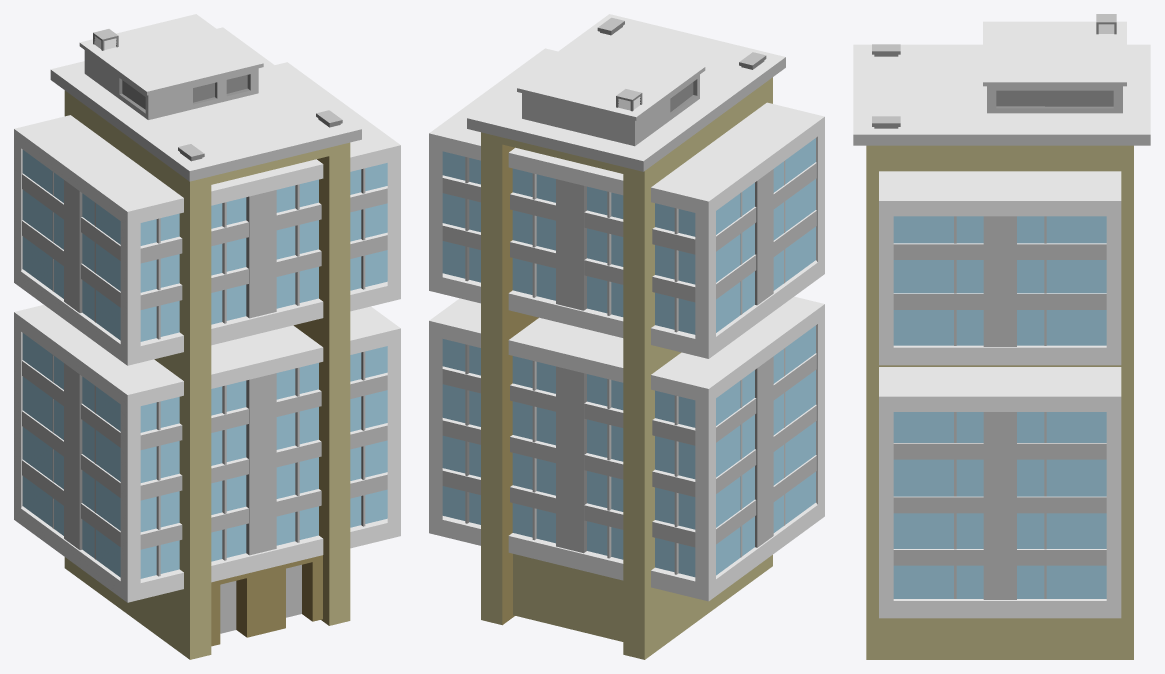
The model's file is house_high_010.glb.
3 views of the same model, side by side, from view 1: azimuth 30°, elevation 25°; view 2: azimuth 150°, elevation 25°; view 3: azimuth 270°, elevation 25° (orthographic). The views are drawn at different scales.
Visible parts, largest first — view 1: house_high_010; view 2: house_high_010; view 3: house_high_010.
Boxes of the visible parts, x1,y1,x2,y2 form: house_high_010: (14, 14, 400, 659); house_high_010: (429, 14, 824, 659); house_high_010: (853, 14, 1150, 659).
Bounding box in the file's own units: 13.4 × 25.13 × 11.81.
Materials: 1 (1 with a texture image).
